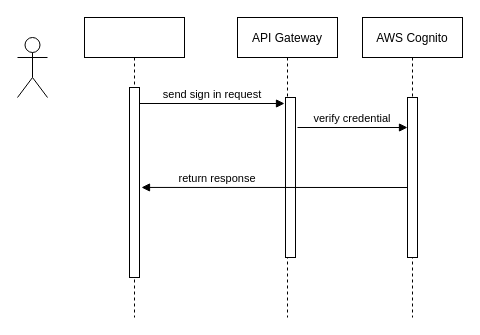
The diagram is 480 pixels wide and 335 high, and some of its shapes have lost their labels. Each missing label, with the box of its shape:
Browser: (84, 16, 184, 318)
user: (16, 36, 48, 98)
